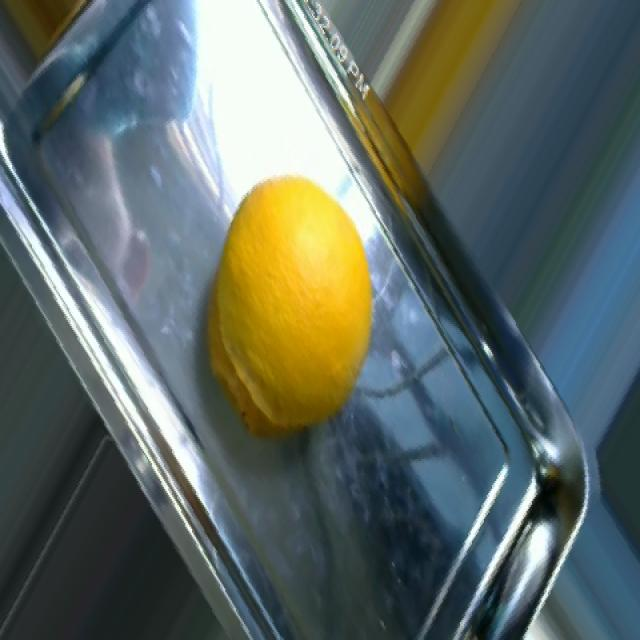Good_Orange: (213, 175, 371, 425)
